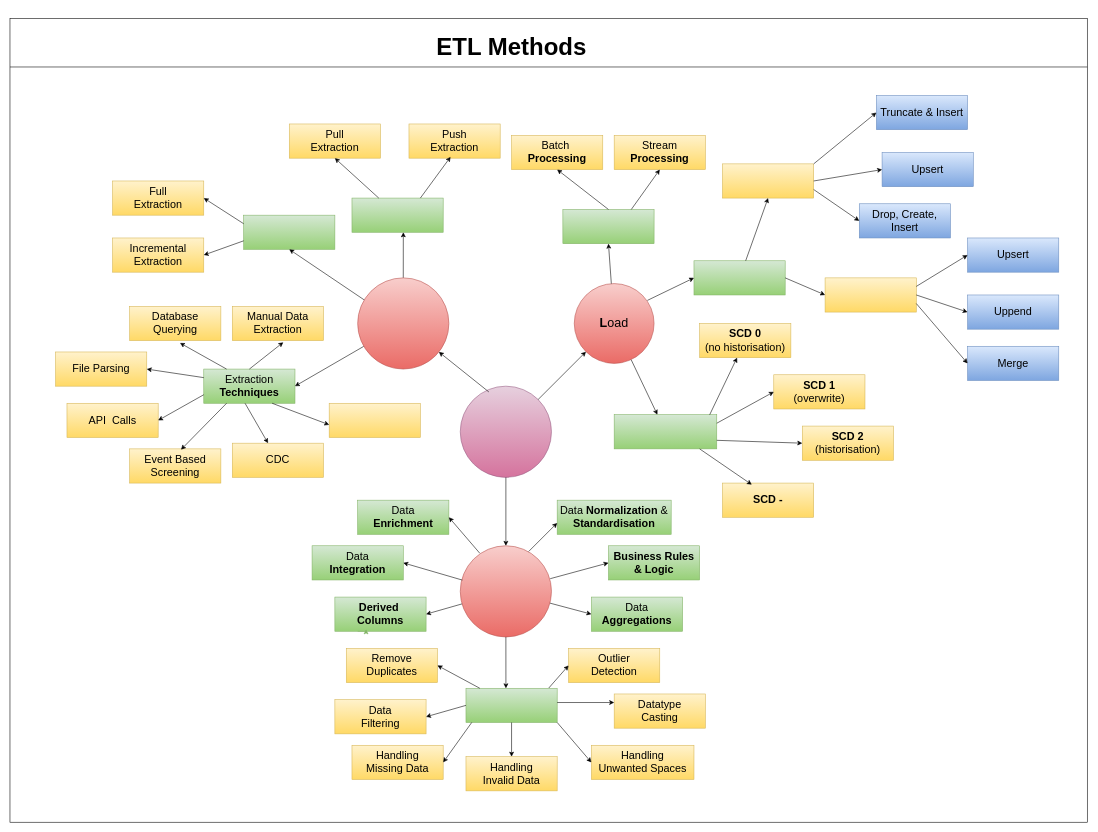
Image size: 1098x832. Some labels were removed from this diagram. The shapes that lost their labels are listed below. From the top down, each one's centre as x and y in pixels, then its label:
pixel 768 180: Full Load
pixel 289 232: E xtraction Types
pixel 397 215: E xtraction Methods
pixel 608 226: Processing Type
pixel 739 277: Load Methods
pixel 870 294: Incremental Load
pixel 403 323: E xtraction
pixel 374 420: Webscraping
pixel 505 431: ETL
pixel 665 431: Slowly Changing Dimensions (SCD)
pixel 505 591: T ransformation
pixel 511 705: Data Cleansing
